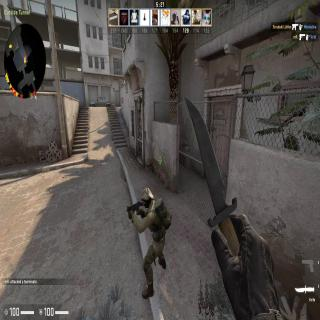CT-Body: (127, 186, 175, 298)
CT-Head: (140, 188, 152, 208)
